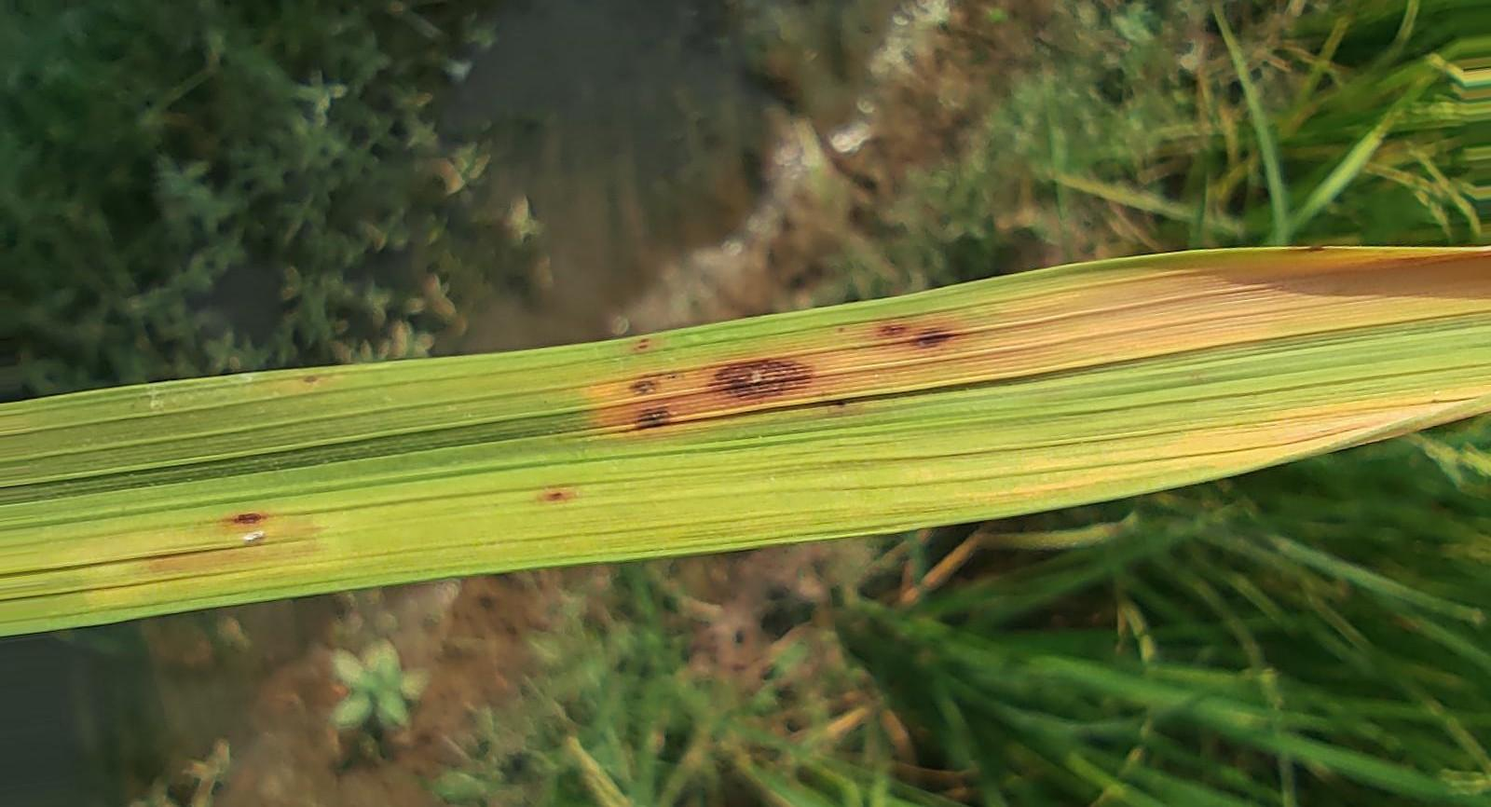LEAF: (0, 246, 1490, 636)
LEAF BLAST: (711, 359, 812, 399), (881, 327, 970, 349), (223, 509, 270, 527), (637, 407, 670, 428), (877, 323, 906, 337), (631, 379, 655, 393)
